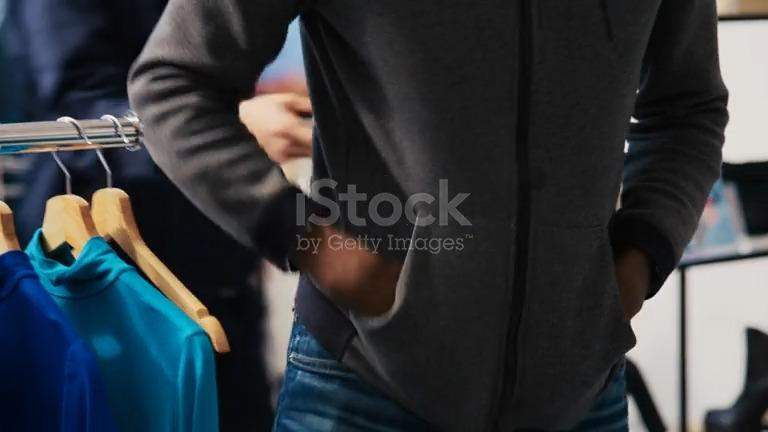Non shoplifting: (229, 0, 725, 432)
